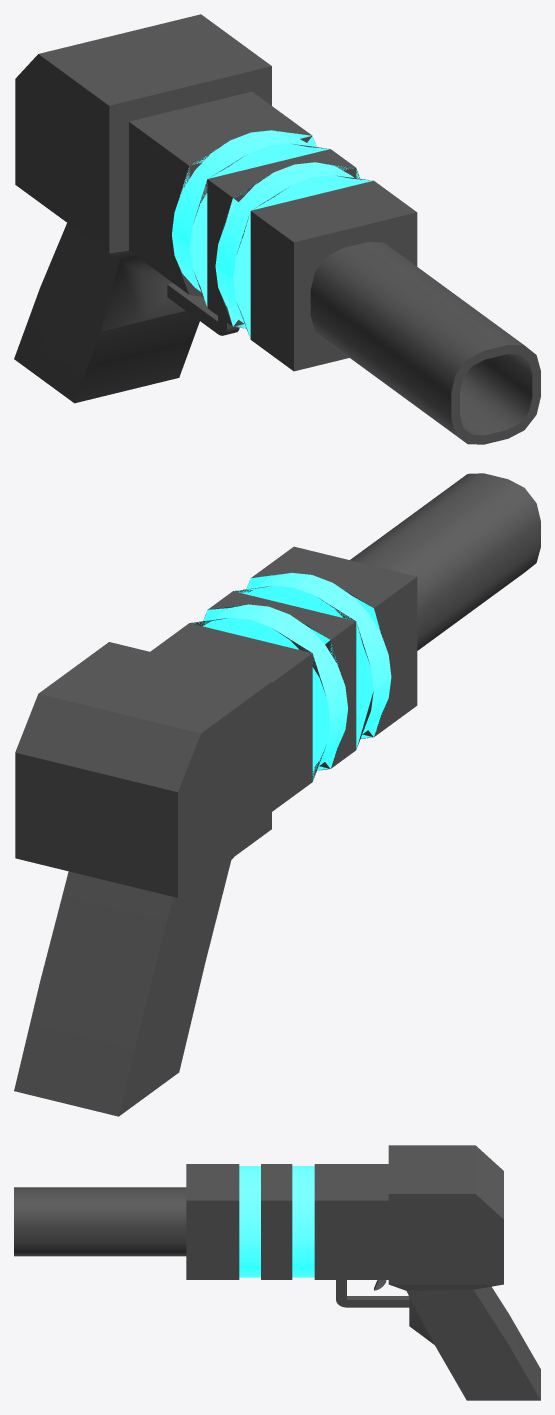
File: Pistol.fbx
3 renders of one model, top to bottom at view 1: azimuth 30°, elevation 25°; view 2: azimuth 150°, elevation 25°; view 3: azimuth 270°, elevation 25°, orthographic. The views are drawn at different scales.
Visible parts, largest first — view 1: Cube.001; view 2: Cube.001; view 3: Cube.001.
Boxes of the visible parts, x1,y1,x2,y2 form: Cube.001: [14, 14, 540, 444]; Cube.001: [14, 473, 540, 1116]; Cube.001: [14, 1145, 540, 1400].
Bounding box in the file's own units: 200 × 412 × 915.
